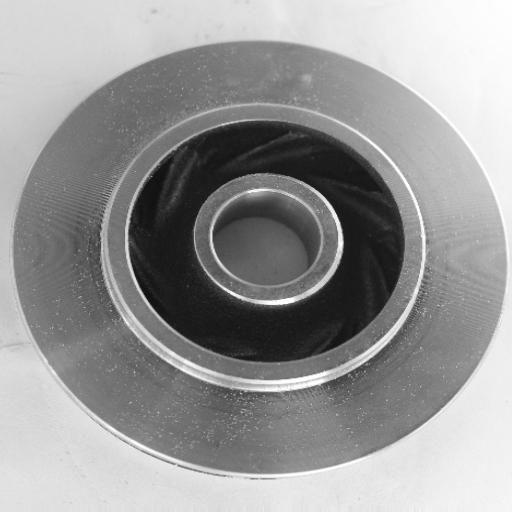polished_casting: (13, 38, 509, 479)
